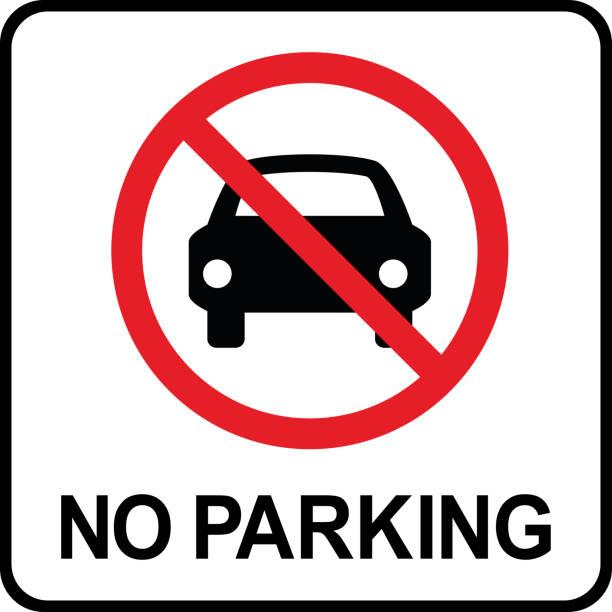No Parking: (33, 28, 582, 591)
